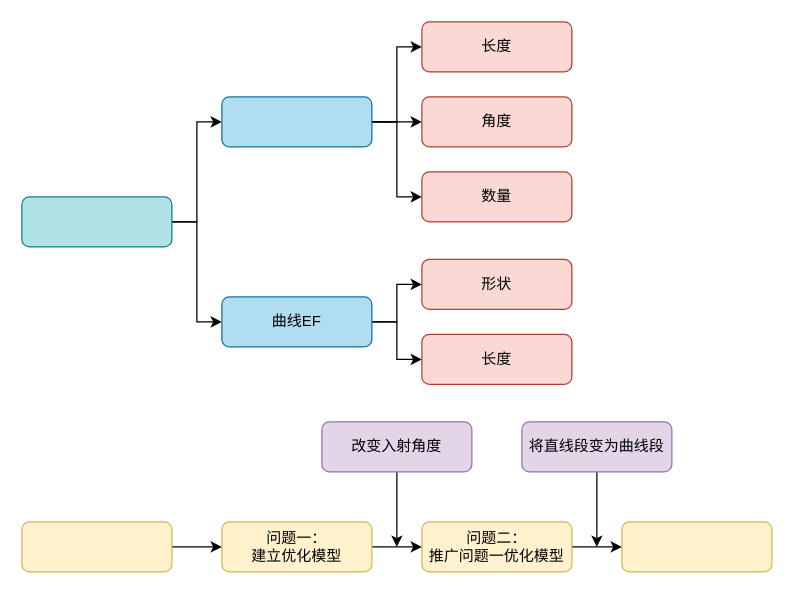
Some shapes in this 794 by 594 pixel diagram are drawn without their labels. The shapes that lost their labels are listed below. From the top down, each one's centre as x and y in pixels, then its label:
(x=296, y=121): 直线段
(x=96, y=221): 自由变量
(x=96, y=546): 确定曲线EF 大小、形状
(x=696, y=546): 问题三： 推广问题二优化模型
